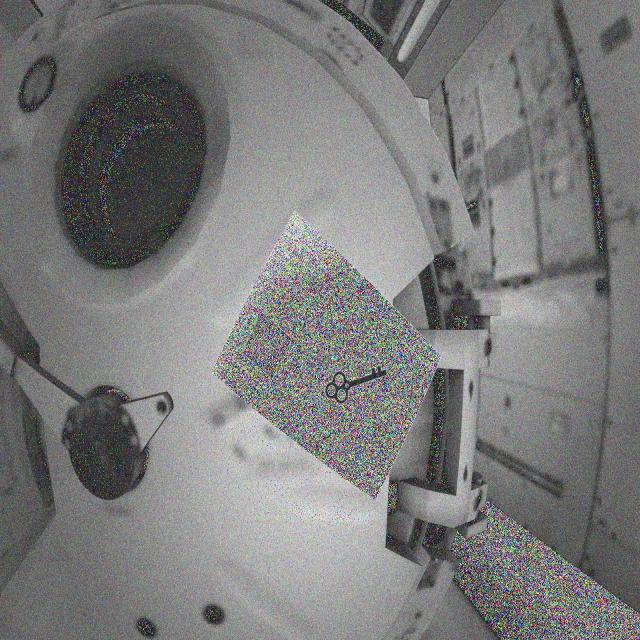key: (317, 347, 402, 417)
